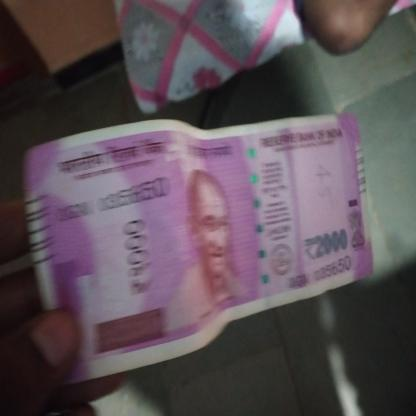New2000Front: (41, 132, 365, 331)
